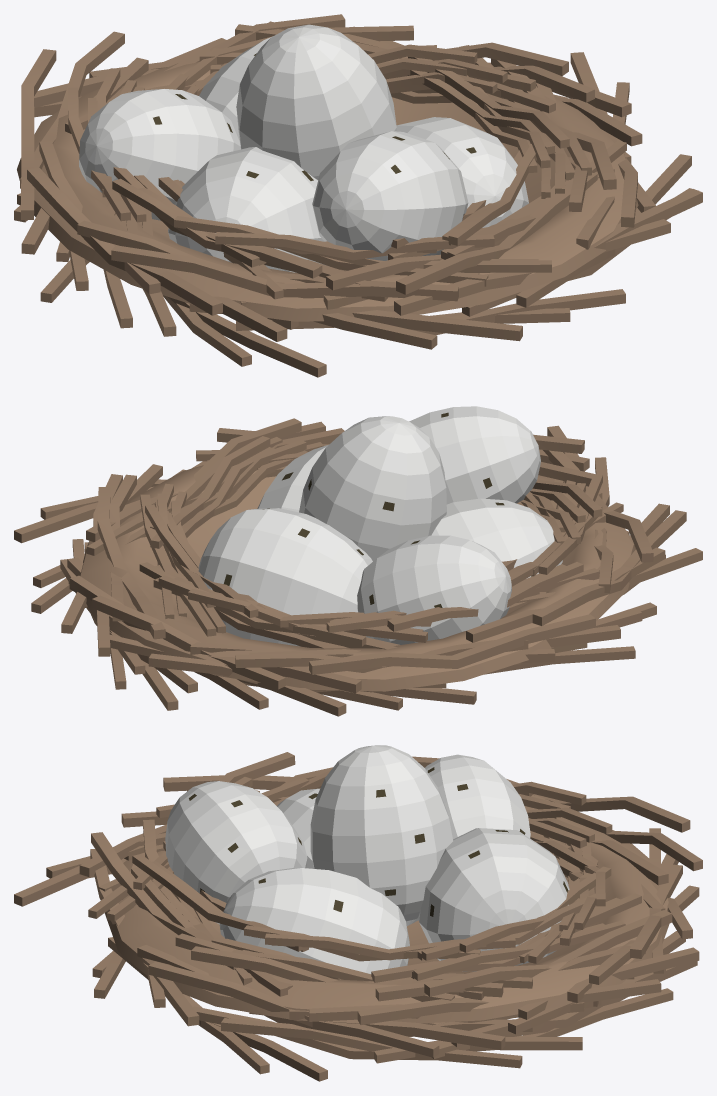
Rendered from Birdsnest_6eggs.fbx.
The picture shows the model from 3 angles, top to bottom: view 1: azimuth 30°, elevation 25°; view 2: azimuth 150°, elevation 25°; view 3: azimuth 270°, elevation 25°; orthographic projection. The views are drawn at different scales.
Visible parts, largest first — view 1: group7, pCylinder1, polySurface5, polySurface6, polySurface4, polySurface3, polySurface1, polySurface2; view 2: group7, pCylinder1, polySurface5, polySurface2, polySurface4, polySurface6, polySurface3, polySurface1; view 3: group7, polySurface5, pCylinder1, polySurface2, polySurface1, polySurface6, polySurface4, polySurface3.
Part boxes in pixels (x1=…): group7: x1=14, y1=14, x2=702, y2=377; pCylinder1: x1=17, y1=56, x2=638, y2=321; polySurface5: x1=236, y1=24, x2=396, y2=179; polySurface6: x1=312, y1=131, x2=468, y2=260; polySurface4: x1=79, y1=89, x2=240, y2=220; polySurface3: x1=168, y1=147, x2=325, y2=272; polySurface1: x1=396, y1=117, x2=528, y2=227; polySurface2: x1=199, y1=36, x2=272, y2=141; group7: x1=14, y1=418, x2=702, y2=716; pCylinder1: x1=80, y1=464, x2=635, y2=691; polySurface5: x1=299, y1=416, x2=446, y2=561; polySurface2: x1=198, y1=508, x2=372, y2=646; polySurface4: x1=357, y1=535, x2=511, y2=644; polySurface6: x1=409, y1=406, x2=540, y2=504; polySurface3: x1=431, y1=498, x2=562, y2=578; polySurface1: x1=257, y1=444, x2=328, y2=512; group7: x1=14, y1=752, x2=702, y2=1081; polySurface5: x1=310, y1=745, x2=453, y2=922; pCylinder1: x1=104, y1=806, x2=669, y2=1023; polySurface2: x1=418, y1=828, x2=569, y2=971; polySurface1: x1=219, y1=868, x2=409, y2=973; polySurface6: x1=165, y1=781, x2=307, y2=924; polySurface4: x1=425, y1=754, x2=530, y2=839; polySurface3: x1=277, y1=788, x2=418, y2=925.
Bounding box in the file's own units: 0.0444 × 0.0174 × 0.0469.
